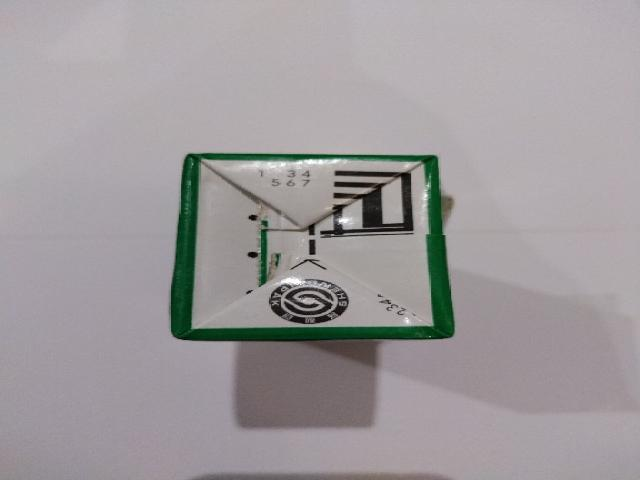drink_box: (164, 148, 458, 343)
